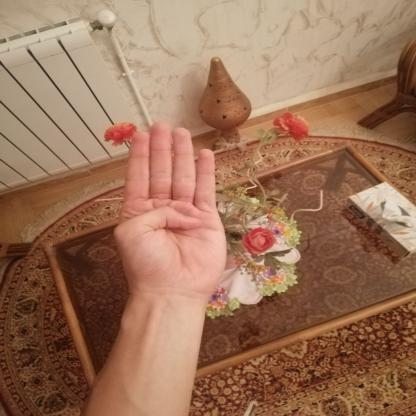KAAF: (99, 111, 248, 307)
